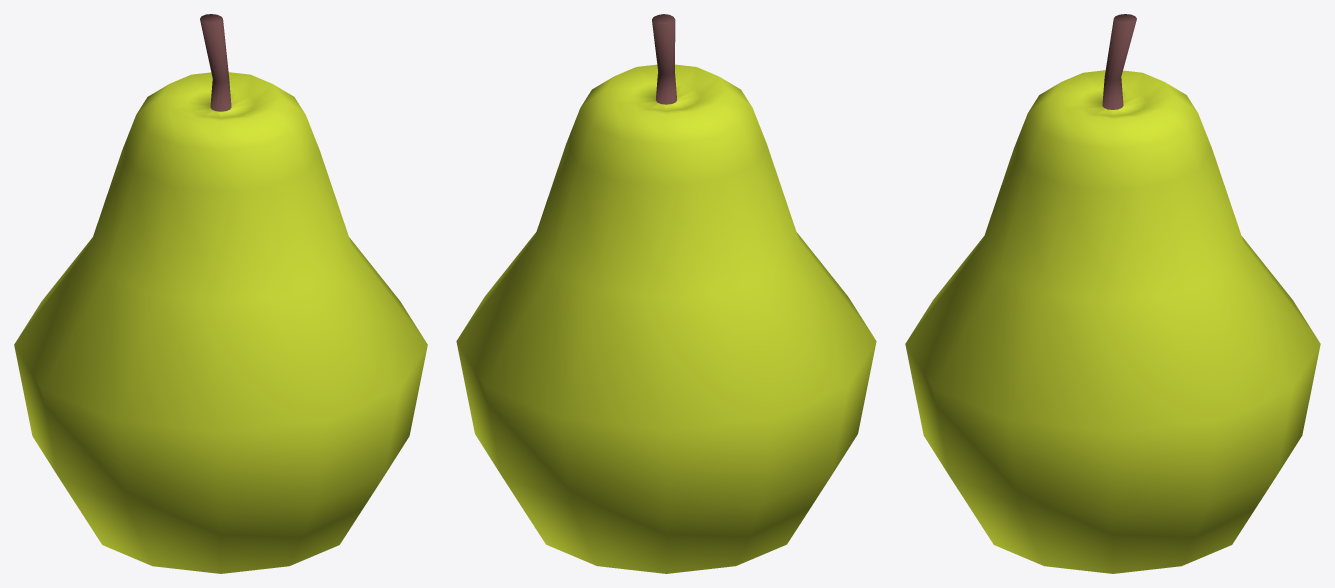
The model's file is Pera.fbx.
The picture shows the model from 3 angles, left to right: view 1: azimuth 30°, elevation 25°; view 2: azimuth 150°, elevation 25°; view 3: azimuth 270°, elevation 25°; orthographic projection.
Visible parts, largest first — view 1: Pera; view 2: Pera; view 3: Pera.
Boxes of the visible parts, box(x1,y1,x2,y2) form: Pera: box(14, 14, 427, 573); Pera: box(456, 14, 876, 573); Pera: box(905, 14, 1320, 573).
Bounding box in the file's own units: 14.57 × 20.04 × 14.57.
